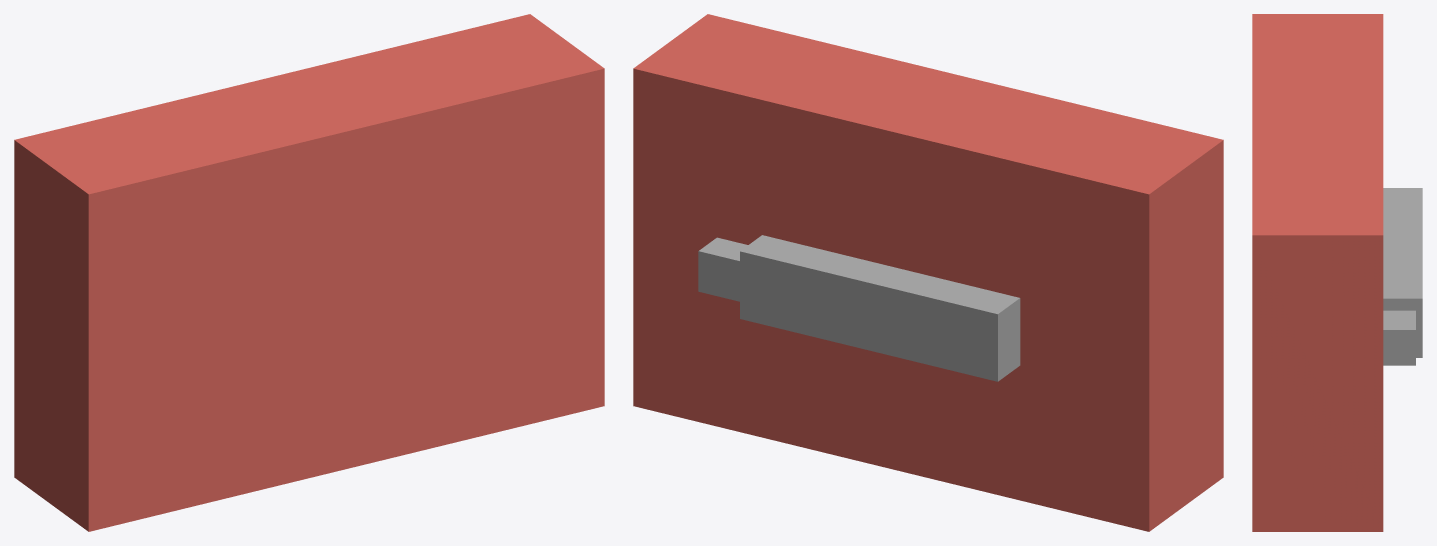
Rendered from repair_toolkit.glb.
3 views of the same model, side by side, from view 1: azimuth 30°, elevation 25°; view 2: azimuth 150°, elevation 25°; view 3: azimuth 270°, elevation 25° (orthographic). The views are drawn at different scales.
Visible parts, largest first — view 1: case; view 2: case, wrench, driver; view 3: case, wrench, driver.
Boxes of the visible parts, x1=… form: case: x1=14, y1=14, x2=604, y2=531; case: x1=633, y1=14, x2=1223, y2=531; wrench: x1=740, y1=235, x2=1020, y2=381; driver: x1=698, y1=237, x2=747, y2=301; case: x1=1252, y1=14, x2=1383, y2=531; wrench: x1=1383, y1=188, x2=1422, y2=357; driver: x1=1383, y1=310, x2=1415, y2=365.
Bounding box in the file's own units: 0.7998 × 0.5 × 0.2601.
